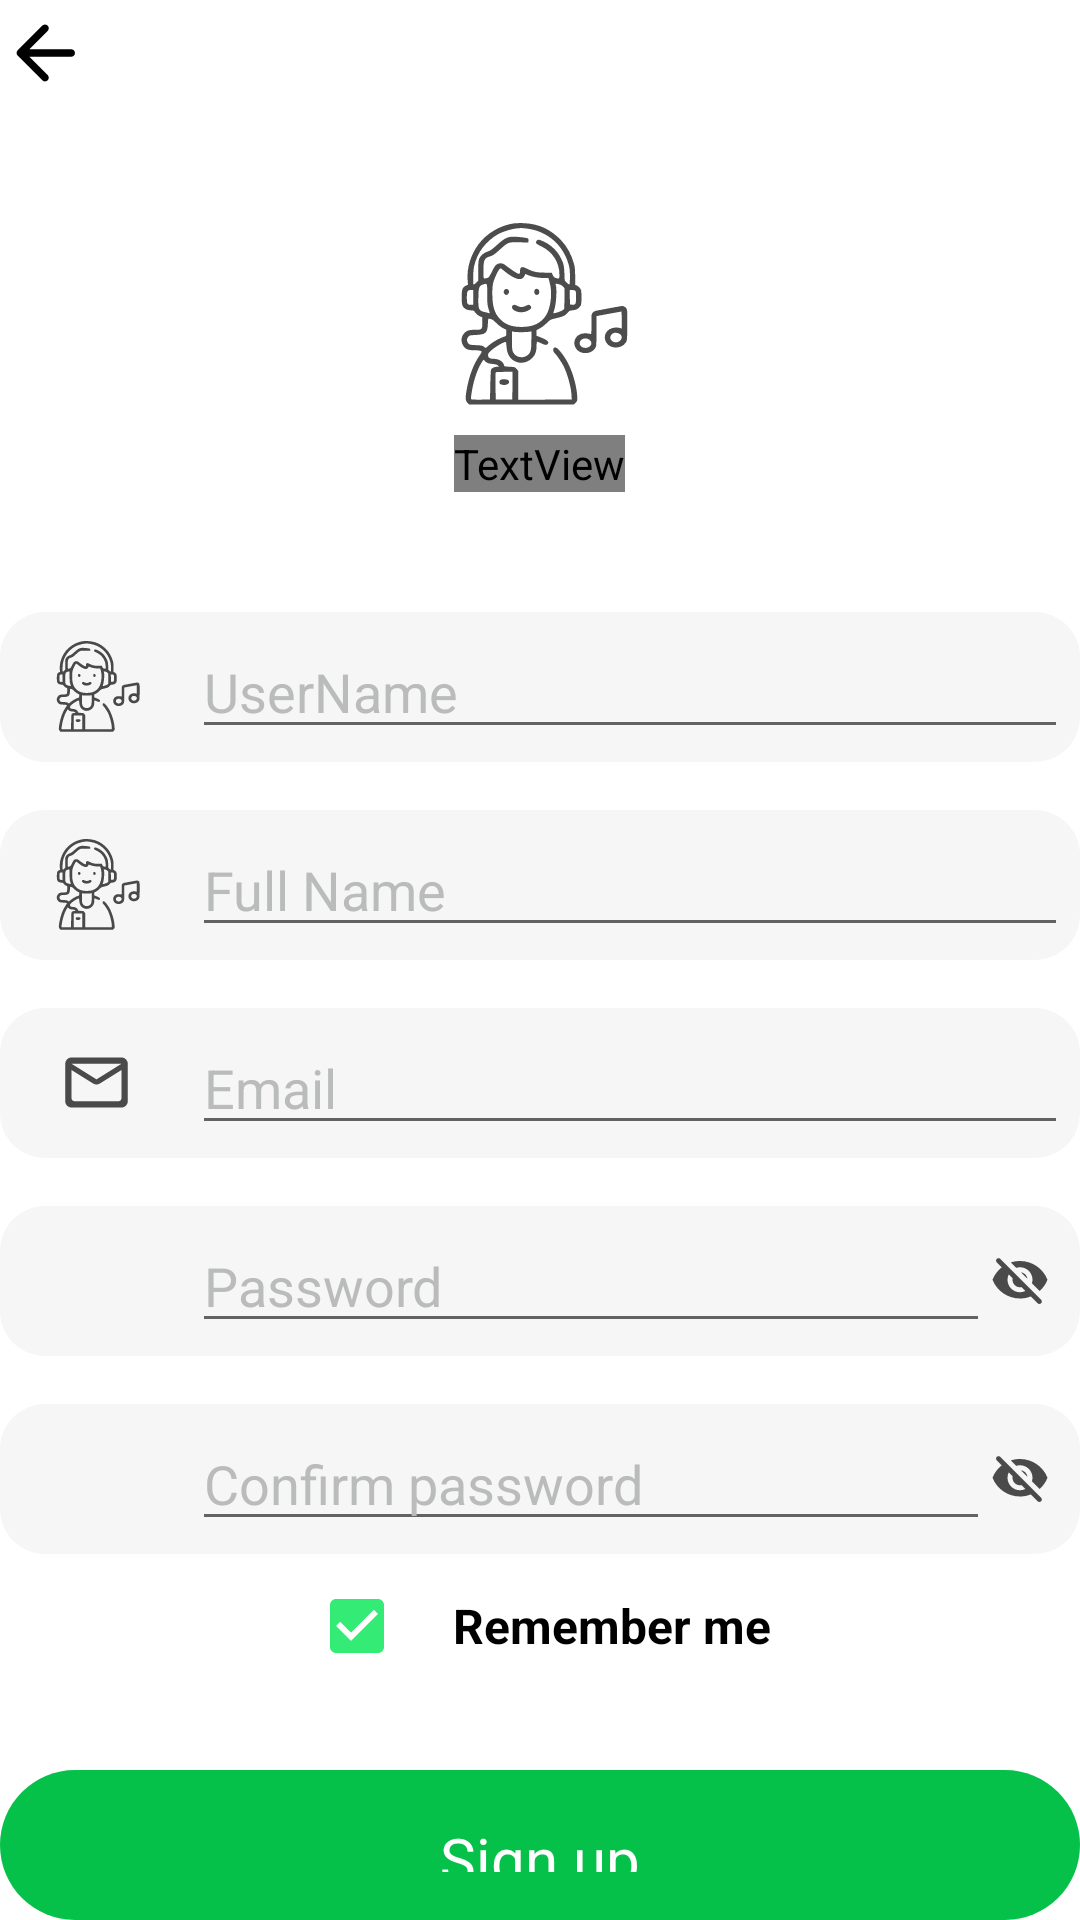

Where icons sit on this 1080*1920 app screen, as (x1, y1, x2, y2):
hide pass: (992, 1258, 1048, 1304), (992, 1456, 1048, 1502)
